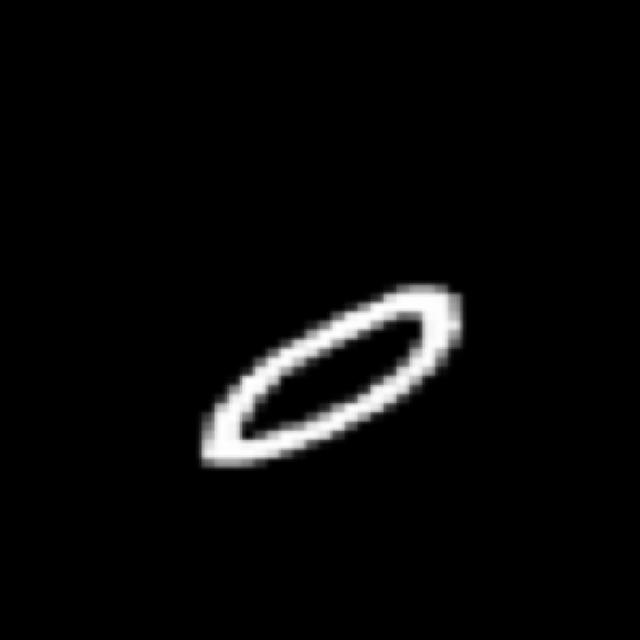zero -0-: (169, 264, 482, 484)
